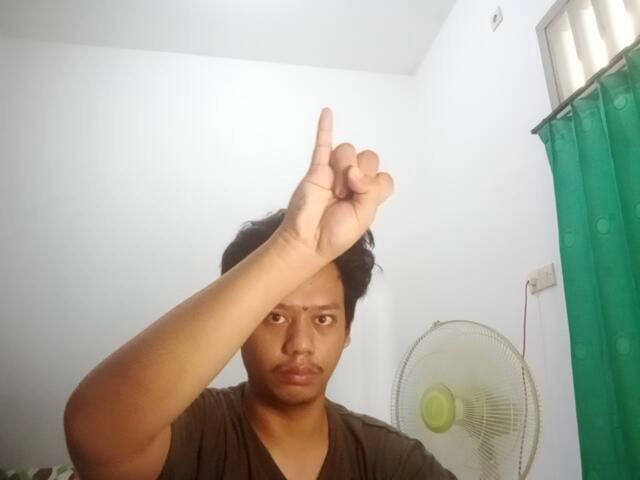I: (288, 100, 398, 253)
